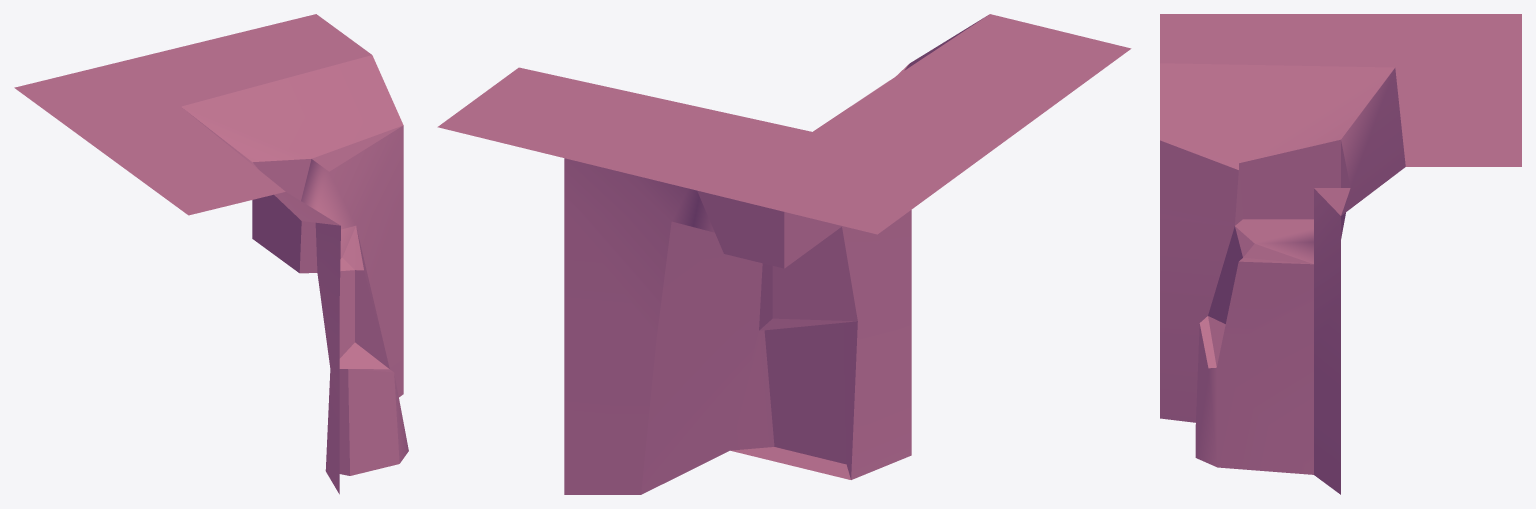
Rendered from InteriorFacingWall.fbx.
3 views of the same model, side by side, from view 1: azimuth 30°, elevation 25°; view 2: azimuth 150°, elevation 25°; view 3: azimuth 270°, elevation 25° (orthographic). The views are drawn at different scales.
Parts seen in each view (by area): view 1: Module_Corner_IN_Mesh_v01; view 2: Module_Corner_IN_Mesh_v01; view 3: Module_Corner_IN_Mesh_v01.
Part boxes in pixels (x1,y1,x2,y2): Module_Corner_IN_Mesh_v01: (14, 14, 408, 494); Module_Corner_IN_Mesh_v01: (437, 14, 1131, 494); Module_Corner_IN_Mesh_v01: (1160, 14, 1521, 494).
Bounding box in the file's own units: 200 × 200 × 200.
